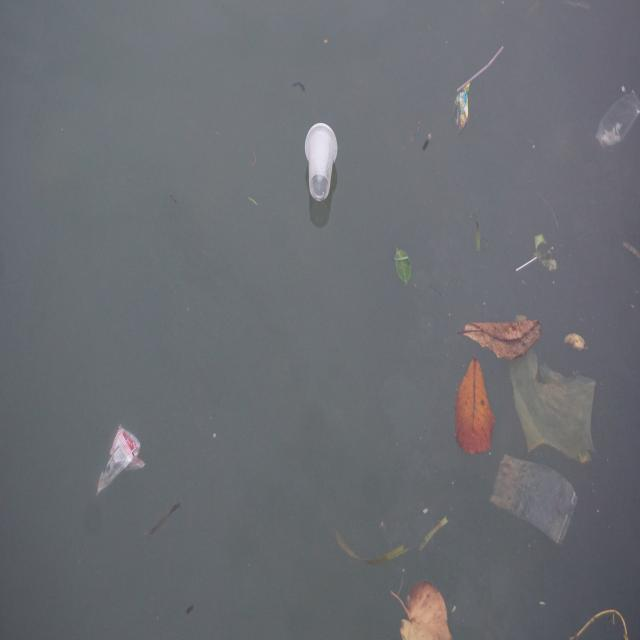Bungkus Makanan: (93, 418, 147, 499), (450, 80, 476, 134)
Bungkus Minuman: (304, 116, 339, 207)
Kantong Plastik: (510, 313, 598, 469), (490, 450, 584, 552), (595, 84, 640, 151)
